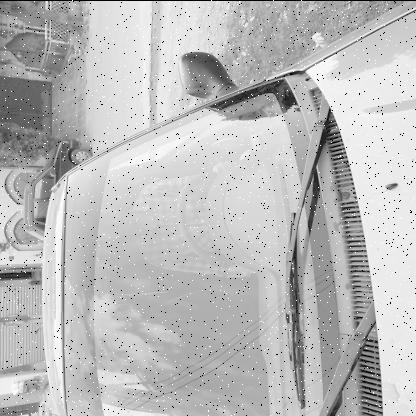no_seatbelt: (102, 180, 206, 254)
